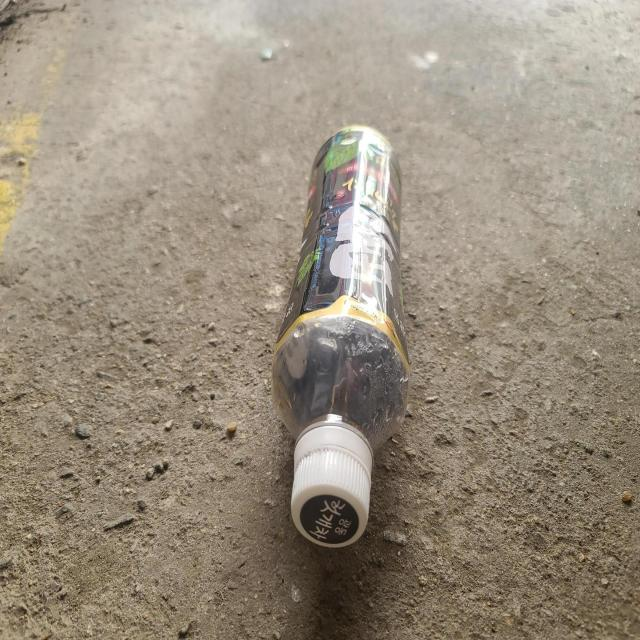plastic: (272, 125, 410, 548)
